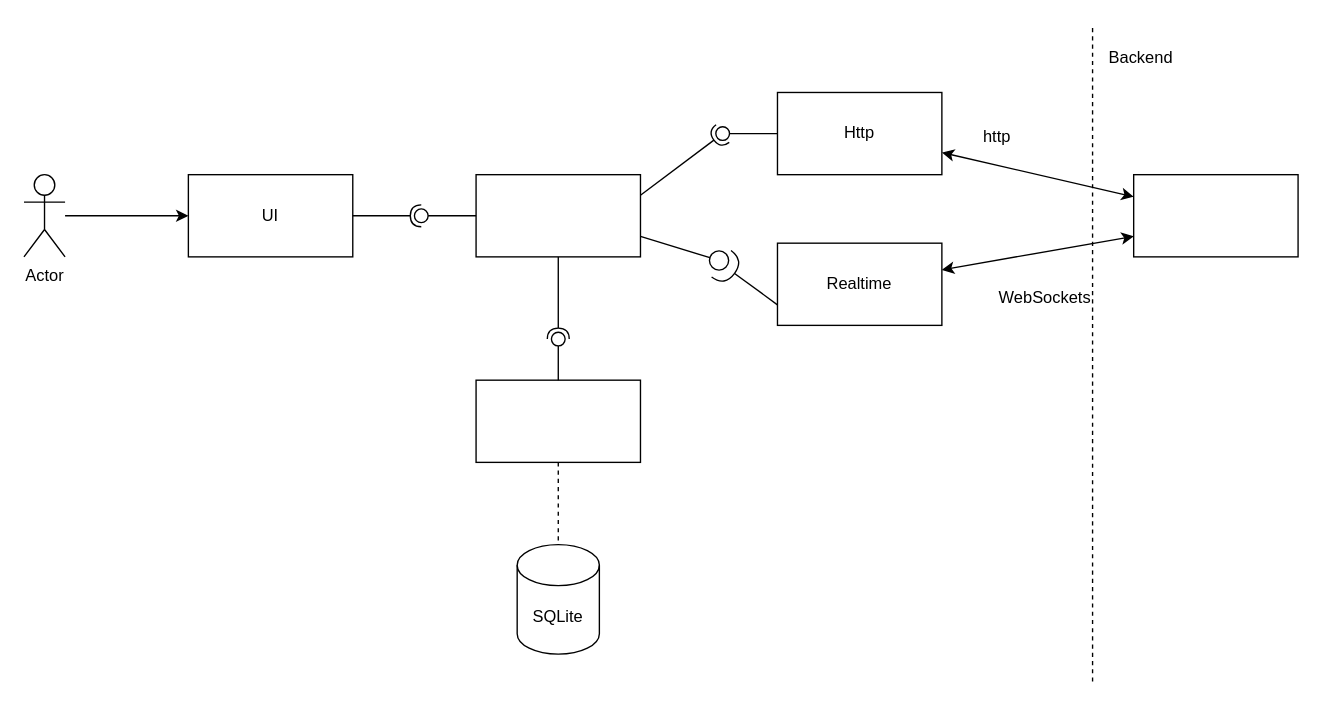
The diagram is 1322 pixels wide and 707 high, and some of its shapes have lost their labels. Here are the shapes that lost their labels. From the top down, the centre of each, then its label:
the point at 557,215: BL
the point at 1215,215: Server API
the point at 557,420: DB
